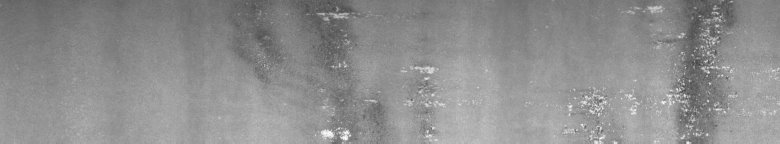hc: (556, 4, 776, 136)
